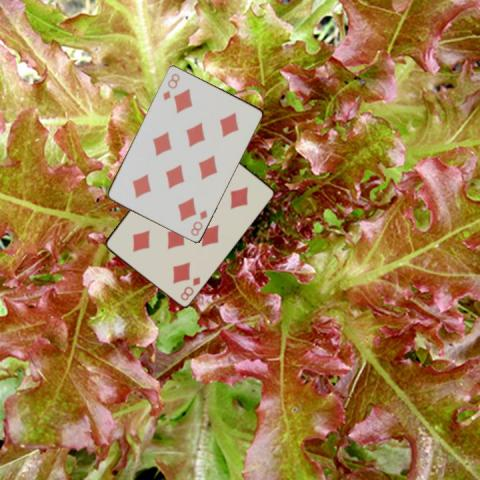8d: (177, 273, 202, 302), (187, 207, 209, 237), (160, 70, 181, 101)
